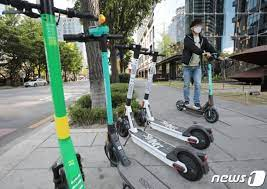kick_handler: (3, 1, 92, 17), (66, 26, 123, 49), (116, 44, 147, 58), (143, 51, 165, 61)
kick_neck: (42, 17, 61, 163), (101, 53, 114, 136), (126, 59, 138, 107), (207, 65, 213, 103)
kick_wheel: (175, 146, 202, 181), (104, 141, 122, 165), (204, 106, 220, 123), (116, 118, 129, 136), (134, 110, 146, 125), (175, 99, 183, 109)
